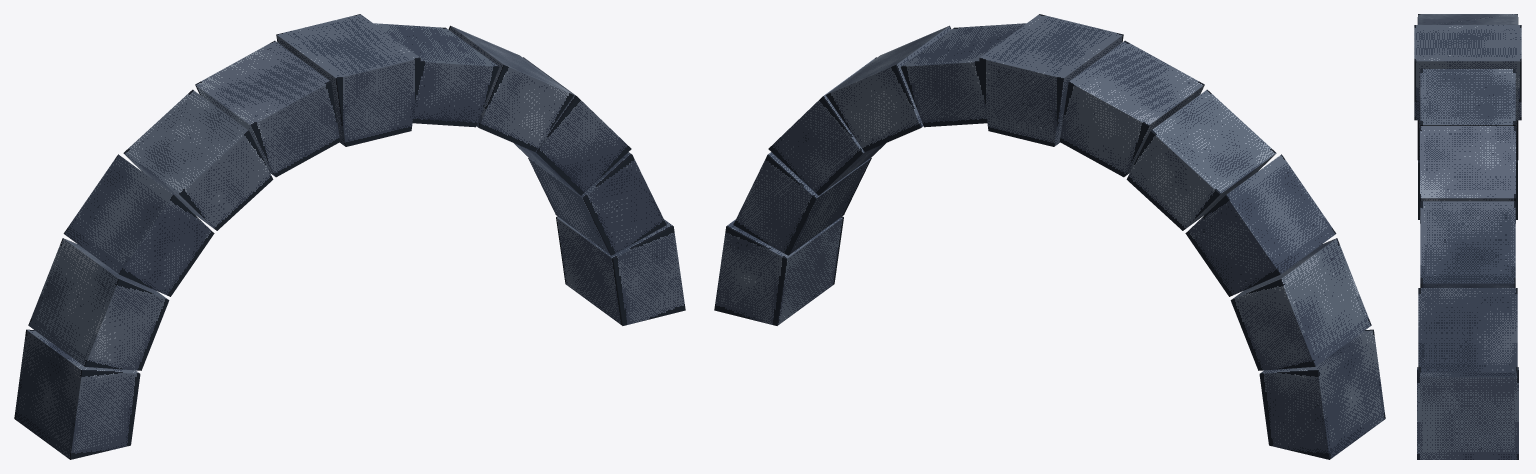
The model's file is SM_Env_Arch_4m.glb.
The picture shows the model from 3 angles, left to right: view 1: azimuth 30°, elevation 25°; view 2: azimuth 150°, elevation 25°; view 3: azimuth 270°, elevation 25°; orthographic projection. The views are drawn at different scales.
Visible parts, largest first — view 1: voussoir08, voussoir09, voussoir07, voussoir06, voussoir05, voussoir10, voussoir00, voussoir04, voussoir01, voussoir03, voussoir02; view 2: voussoir08, voussoir09, voussoir07, voussoir06, voussoir05, voussoir10, voussoir00, voussoir04, voussoir01, voussoir03, voussoir02; view 3: voussoir00, voussoir01, voussoir02, voussoir03, voussoir05, voussoir04, voussoir06, voussoir09, voussoir10.
Part boxes in pixels (left/top/right/bottom): voussoir08: left=63, top=154, right=214, bottom=296; voussoir09: left=28, top=238, right=169, bottom=370; voussoir07: left=123, top=89, right=273, bottom=230; voussoir06: left=195, top=40, right=340, bottom=177; voussoir05: left=276, top=14, right=420, bottom=146; voussoir10: left=14, top=329, right=140, bottom=459; voussoir00: left=556, top=216, right=685, bottom=325; voussoir04: left=373, top=23, right=498, bottom=127; voussoir01: left=528, top=152, right=666, bottom=255; voussoir03: left=448, top=25, right=573, bottom=151; voussoir02: left=514, top=57, right=631, bottom=195; voussoir08: left=1185, top=154, right=1336, bottom=296; voussoir09: left=1230, top=238, right=1371, bottom=370; voussoir07: left=1126, top=89, right=1276, bottom=230; voussoir06: left=1059, top=40, right=1204, bottom=177; voussoir05: left=979, top=14, right=1123, bottom=146; voussoir10: left=1259, top=329, right=1385, bottom=459; voussoir00: left=714, top=216, right=843, bottom=325; voussoir04: left=901, top=23, right=1026, bottom=127; voussoir01: left=733, top=152, right=871, bottom=255; voussoir03: left=826, top=25, right=951, bottom=151; voussoir02: left=768, top=57, right=885, bottom=195; voussoir00: left=1417, top=367, right=1518, bottom=459; voussoir01: left=1418, top=288, right=1517, bottom=372; voussoir02: left=1420, top=201, right=1515, bottom=287; voussoir03: left=1420, top=126, right=1515, bottom=223; voussoir05: left=1414, top=25, right=1521, bottom=120; voussoir04: left=1420, top=69, right=1515, bottom=125; voussoir06: left=1418, top=14, right=1517, bottom=24; voussoir09: left=1417, top=120, right=1518, bottom=160; voussoir10: left=1418, top=160, right=1517, bottom=219.
Bounding box in the file's own units: 3.88 × 1.92 × 0.66.
1 material, 1 textured.
